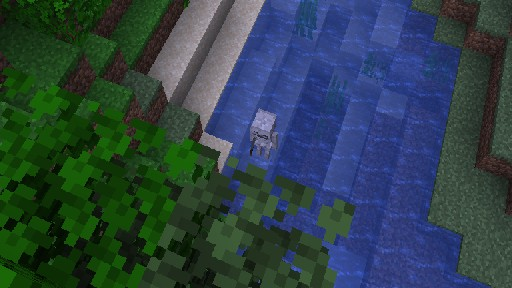skeleton: (248, 107, 278, 159)
